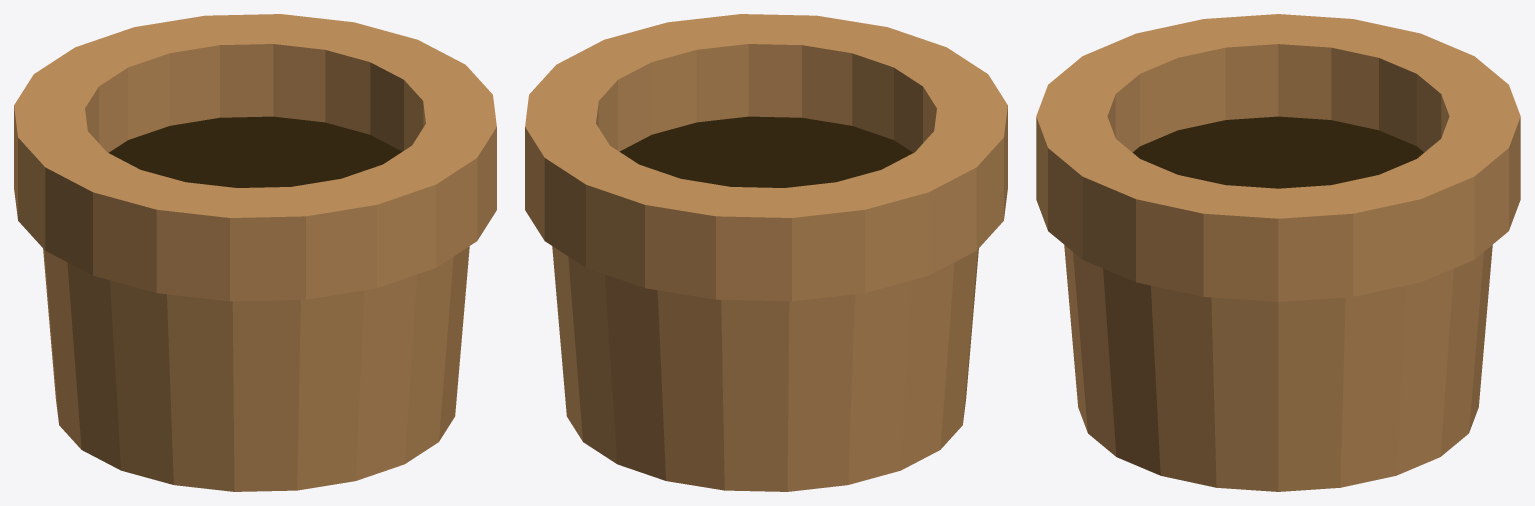
The model's file is pot2.glb.
The picture shows the model from 3 angles, left to right: view 1: azimuth 30°, elevation 25°; view 2: azimuth 150°, elevation 25°; view 3: azimuth 270°, elevation 25°; orthographic projection.
Parts seen in each view (by area): view 1: Cylinder; view 2: Cylinder; view 3: Cylinder.
Part boxes in pixels (left/top/right/bottom): Cylinder: left=14, top=14, right=496, bottom=491; Cylinder: left=525, top=14, right=1007, bottom=491; Cylinder: left=1036, top=14, right=1520, bottom=491.
Size of the model in its own units: 0.6918 by 0.4584 by 0.6918.
